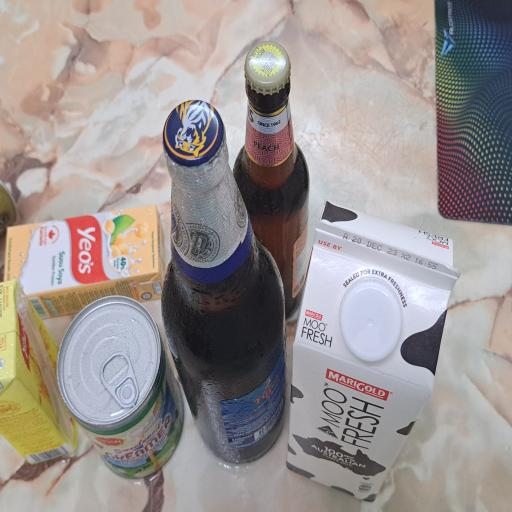can: (28, 74, 160, 237)
drink carton: (8, 371, 230, 512), (140, 0, 230, 216), (31, 0, 176, 95)
glass bottle: (42, 210, 306, 389), (149, 324, 355, 418)
plastic bottle cap: (106, 447, 181, 512)
pop tab: (74, 128, 122, 190)
